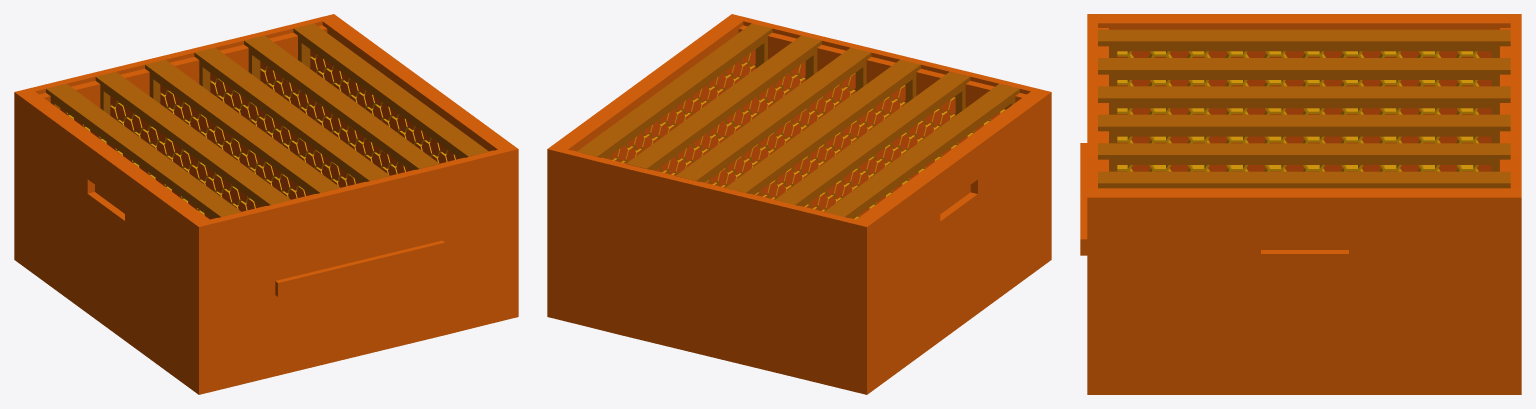
Rendered from Storey.fbx.
3 renders of one model, left to right at view 1: azimuth 30°, elevation 25°; view 2: azimuth 150°, elevation 25°; view 3: azimuth 270°, elevation 25°, orthographic. The views are drawn at different scales.
Visible parts, largest first — view 1: Frame; view 2: Frame; view 3: Frame.
Boxes of the visible parts, x1,y1,x2,y2 form: Frame: (14, 14, 518, 394); Frame: (547, 14, 1051, 394); Frame: (1080, 14, 1521, 394).
Bounding box in the file's own units: 100 × 50.25 × 102.
